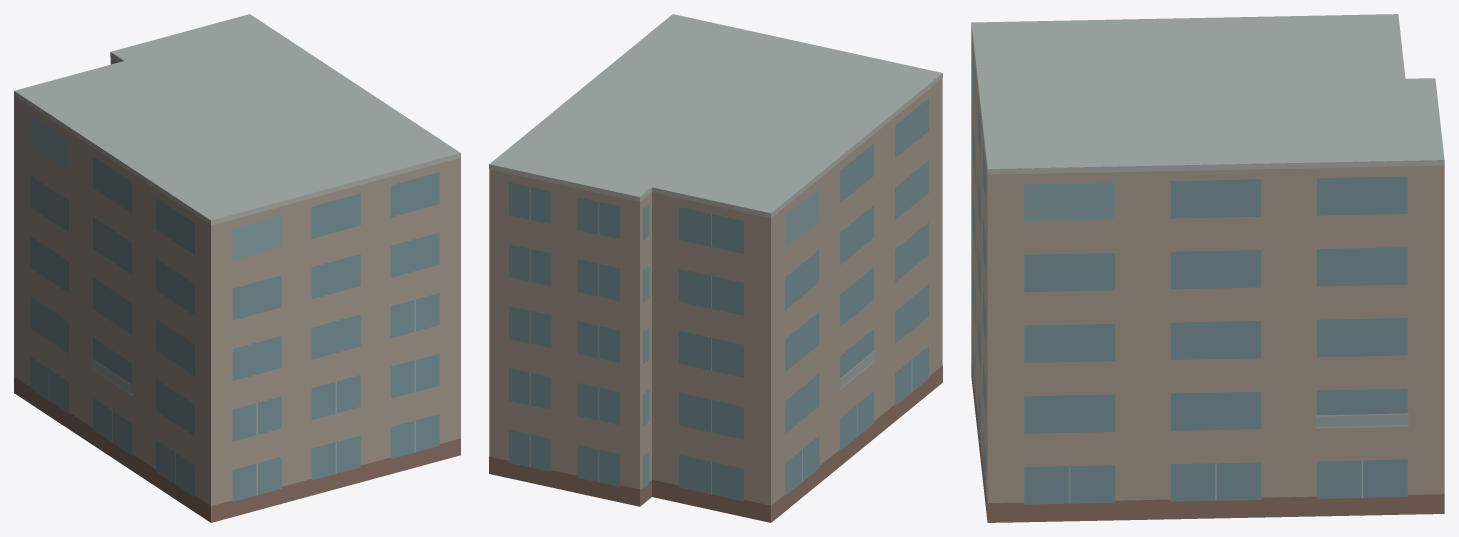
File: residential-c11ce3fc-c73a-4085-97d9-8cde3bd76e22.glb
3 renders of one model, left to right at view 1: azimuth 30°, elevation 25°; view 2: azimuth 150°, elevation 25°; view 3: azimuth 270°, elevation 25°, orthographic. The views are drawn at different scales.
Parts seen in each view (by area): view 1: residential-c11ce3fc-c73a-4085-97d9-8cde3bd76e22.tmp; view 2: residential-c11ce3fc-c73a-4085-97d9-8cde3bd76e22.tmp; view 3: residential-c11ce3fc-c73a-4085-97d9-8cde3bd76e22.tmp.
Part boxes in pixels (box(x1,y1,x2,y2)): residential-c11ce3fc-c73a-4085-97d9-8cde3bd76e22.tmp: box(14, 14, 460, 522); residential-c11ce3fc-c73a-4085-97d9-8cde3bd76e22.tmp: box(489, 14, 942, 522); residential-c11ce3fc-c73a-4085-97d9-8cde3bd76e22.tmp: box(971, 14, 1444, 522).
Size of the model in its own units: 14.34 by 15.25 by 18.49.
